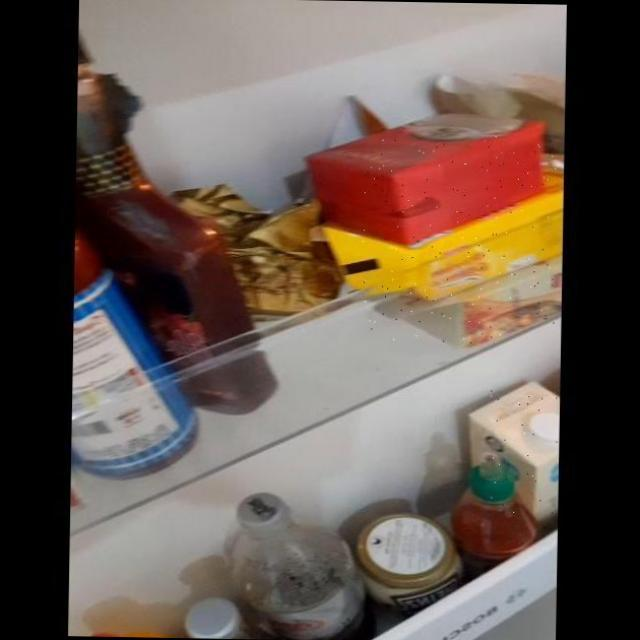Mantequilla: (360, 134, 557, 345)
milk: (487, 388, 559, 519)
